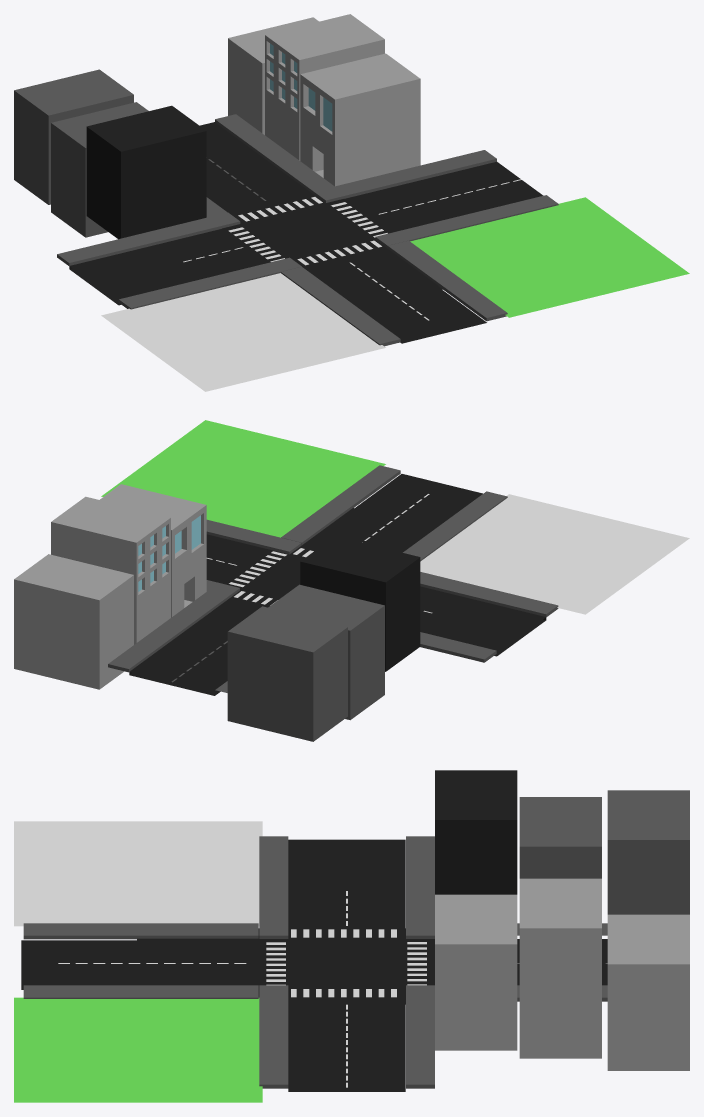
The model's file is RoadBlockout.fbx.
The picture shows the model from 3 angles, top to bottom: view 1: azimuth 30°, elevation 25°; view 2: azimuth 150°, elevation 25°; view 3: azimuth 270°, elevation 25°; orthographic projection. The views are drawn at different scales.
Visible parts, largest first — view 1: RoadBlockout; view 2: RoadBlockout; view 3: RoadBlockout.
Part boxes in pixels (x1=…): RoadBlockout: x1=14, y1=14, x2=689, y2=391; RoadBlockout: x1=14, y1=420, x2=689, y2=741; RoadBlockout: x1=14, y1=770, x2=689, y2=1102.
Bounding box in the file's own units: 7931 × 1960 × 8052.
